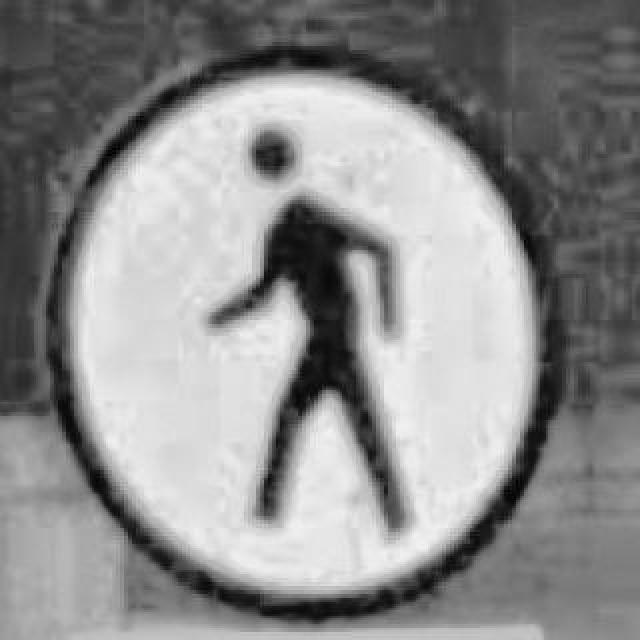pedestrian crossing: (40, 40, 560, 622)
